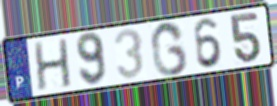3: (112, 26, 146, 82)
5: (227, 11, 263, 65)
6: (193, 16, 224, 71)
9: (75, 30, 109, 89)
G: (149, 19, 190, 78)
H: (32, 36, 74, 93)
